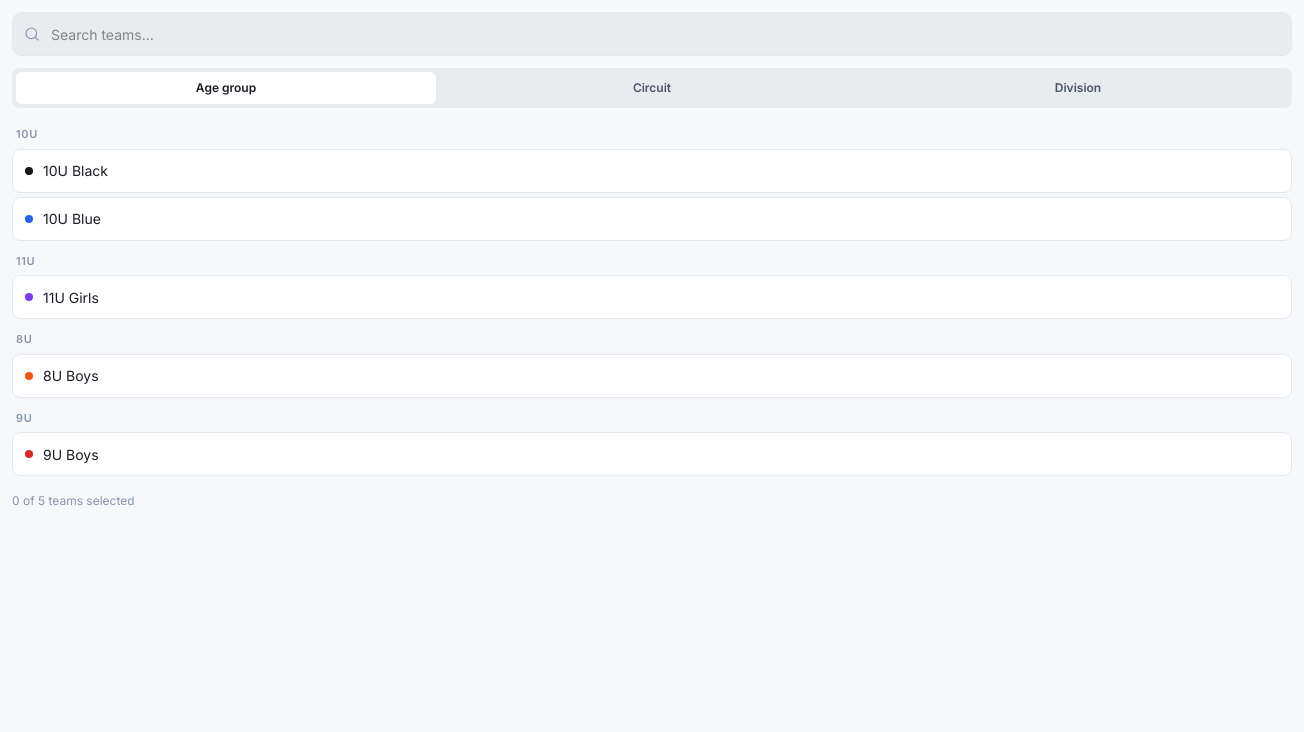
Test: TeamGroupedPicker › f. switching axis age_group → circuit re-buckets into 2 buckets (aau, league_play)
Click the tab "Circuit". click: {"x": 652, "y": 88}
box: [442, 72, 862, 104]
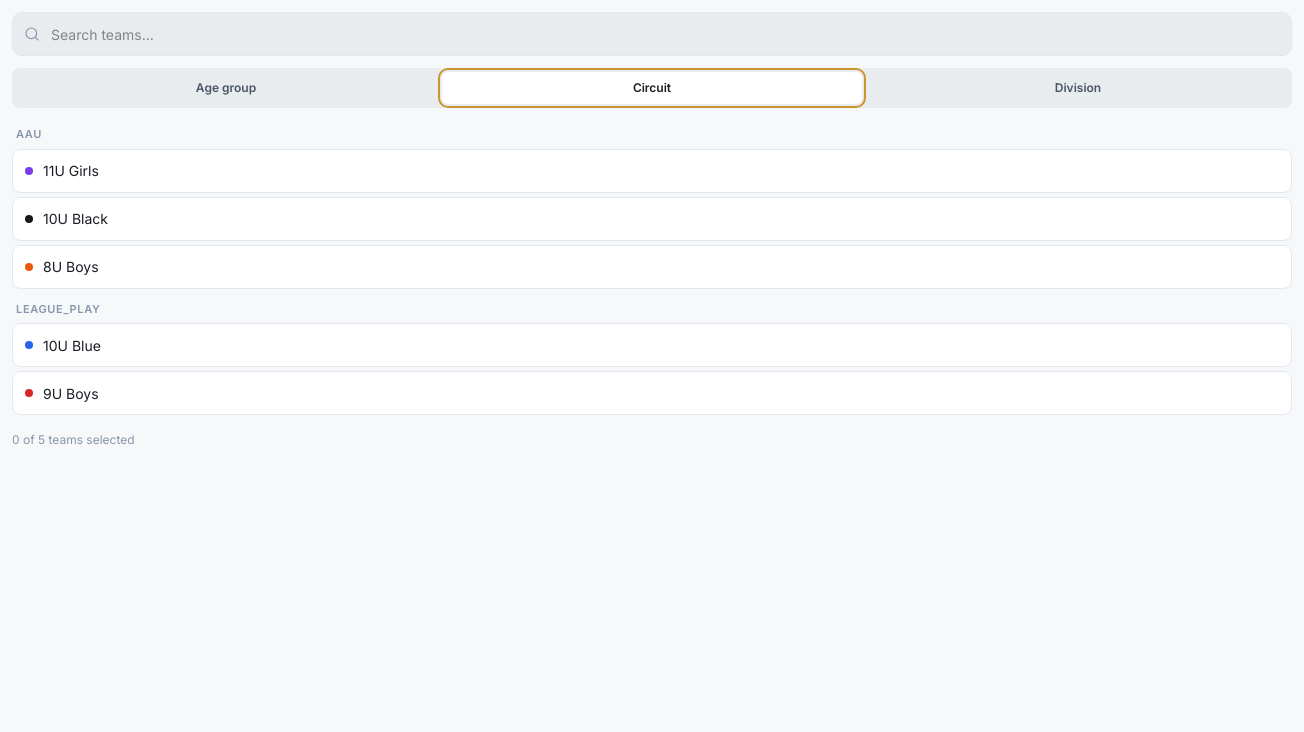
Expected: the text "aau" is shown, [16, 126, 42, 142]
Expected: the text "league_play" is shown, [16, 300, 101, 317]
